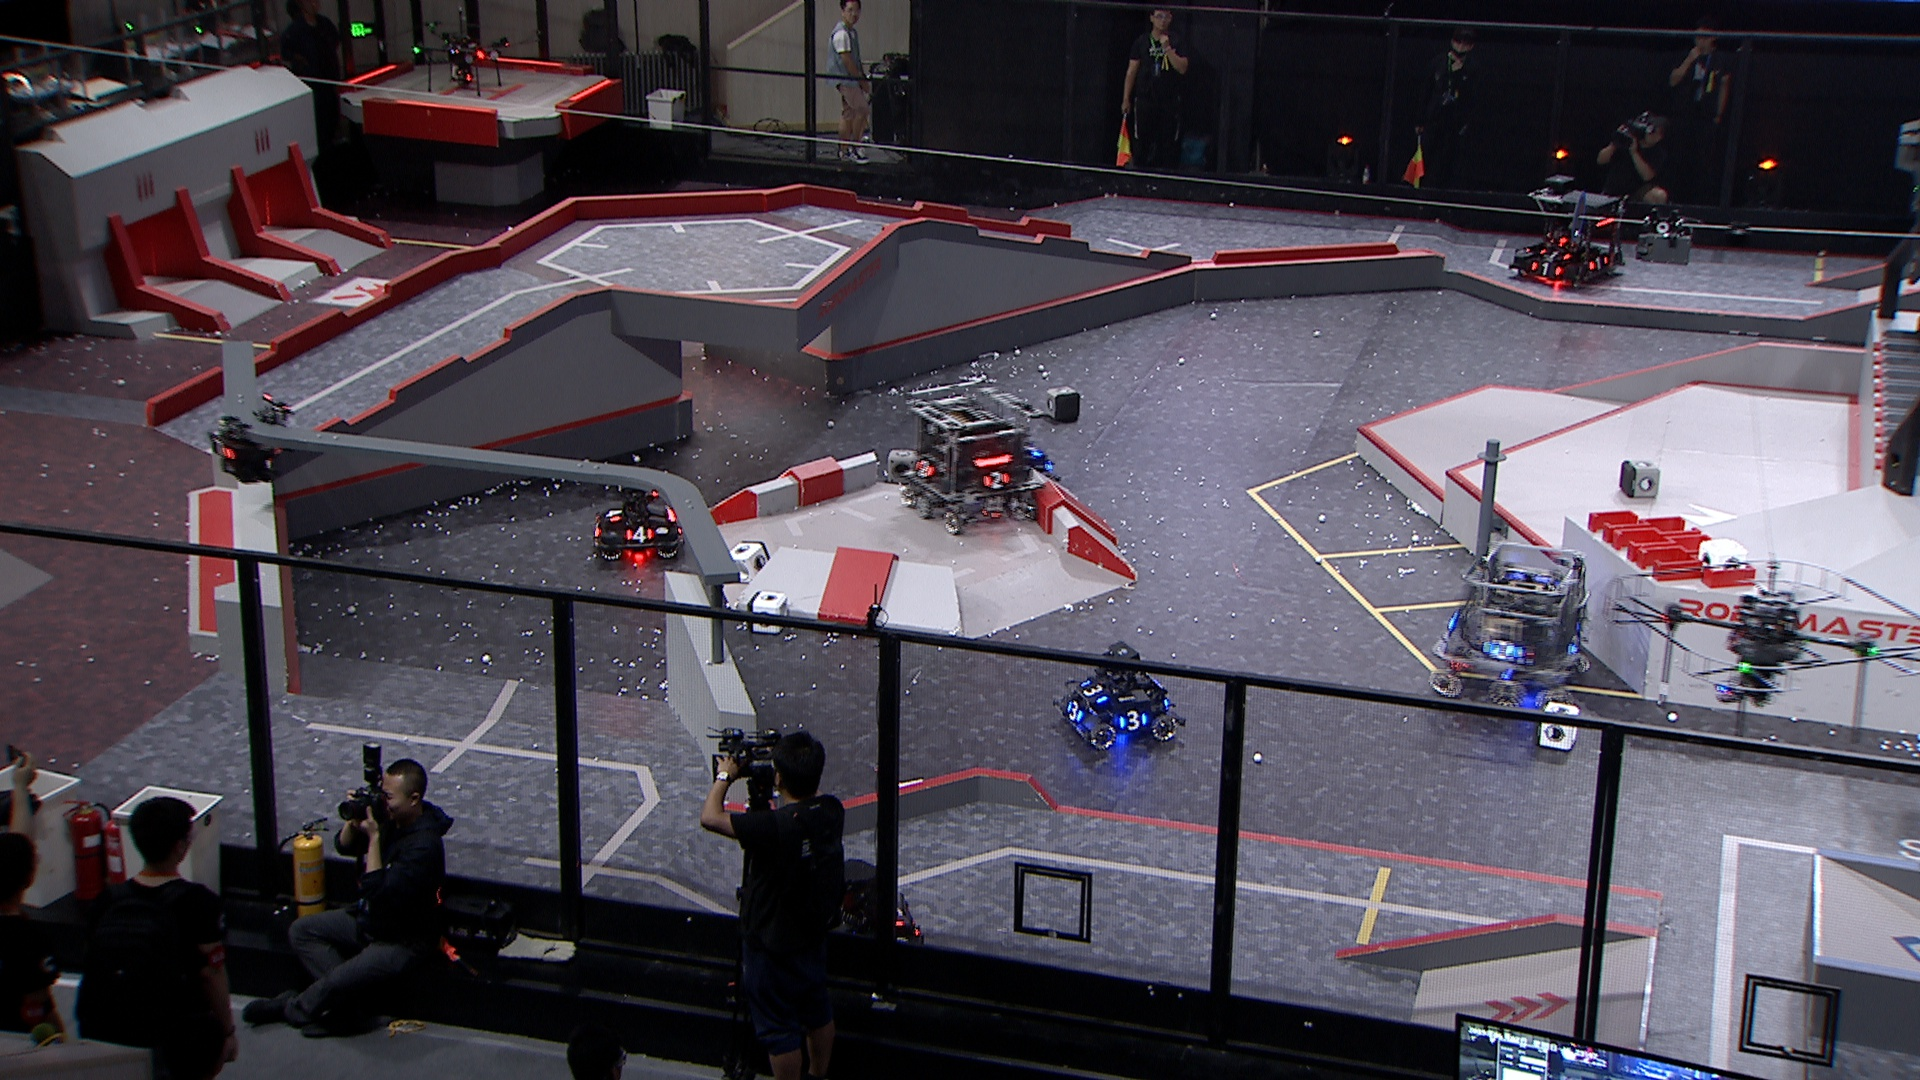armor: (1482, 637, 1524, 662), (1079, 676, 1110, 705), (207, 436, 237, 462), (1120, 709, 1149, 735), (622, 524, 657, 545), (1064, 698, 1087, 725), (982, 469, 1011, 491), (1528, 261, 1567, 277), (1585, 253, 1611, 272), (911, 456, 934, 477), (1538, 247, 1575, 258), (1565, 633, 1584, 655), (605, 504, 624, 524)
car: (1427, 538, 1600, 713), (897, 376, 1048, 537), (771, 858, 928, 981), (1050, 641, 1188, 752), (1505, 171, 1627, 291), (585, 475, 690, 567)
watcher: (204, 392, 299, 485)
